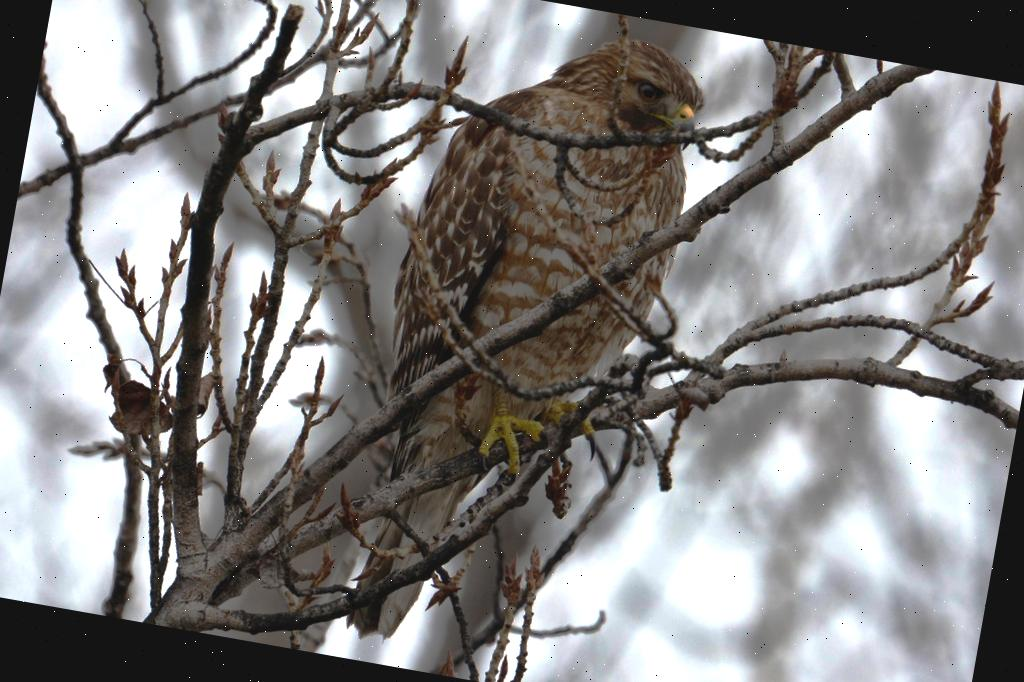Owl: (327, 0, 712, 681)
